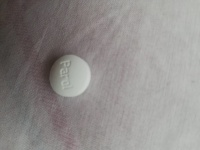Parol: (48, 53, 93, 98)
